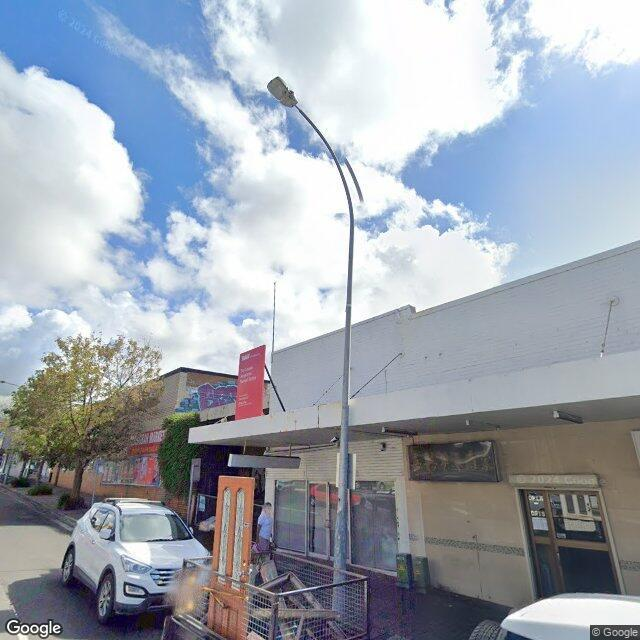steel-pole: (331, 214, 355, 615)
streetlight: (266, 76, 352, 215), (1, 379, 20, 388)
